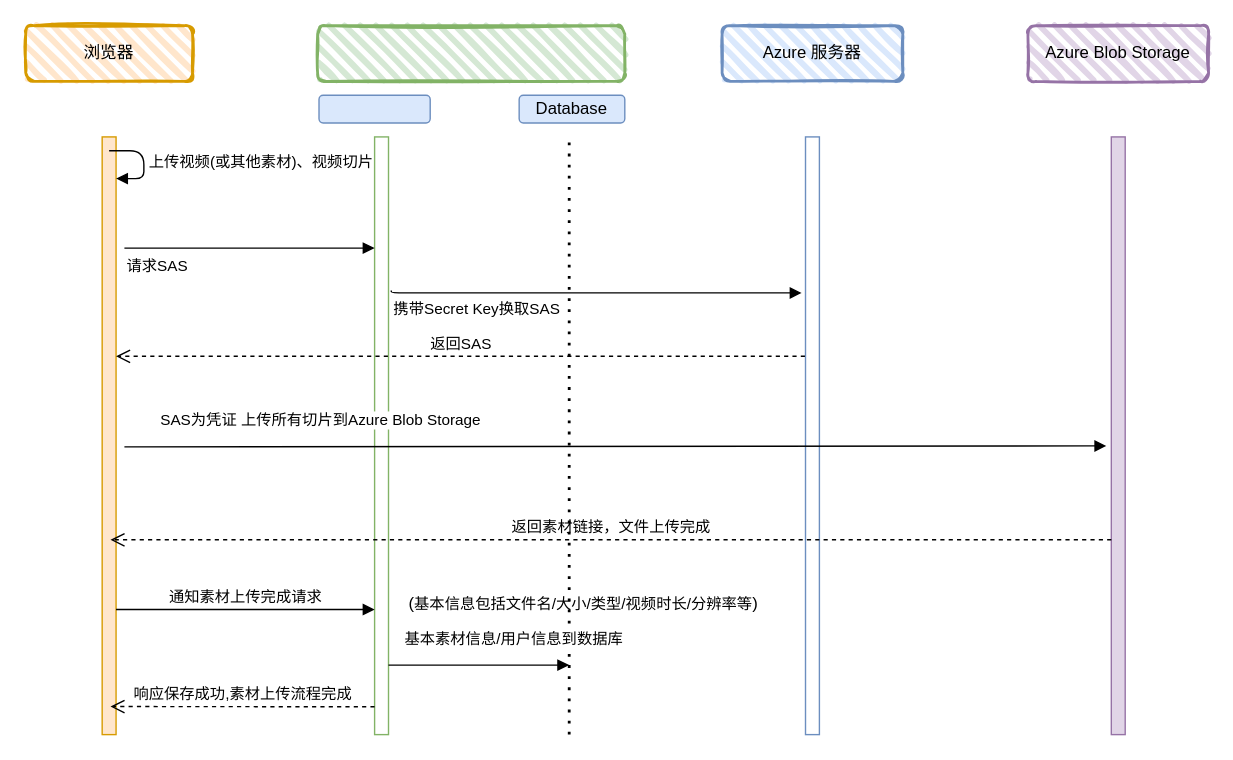
This 1233x760 diagram has some shape labels left out. Here are the shapes that lost their labels. From the top down, the centre of each, then its label:
At (471,53): "成功易服务器".
At (374,108): "WebApi".
